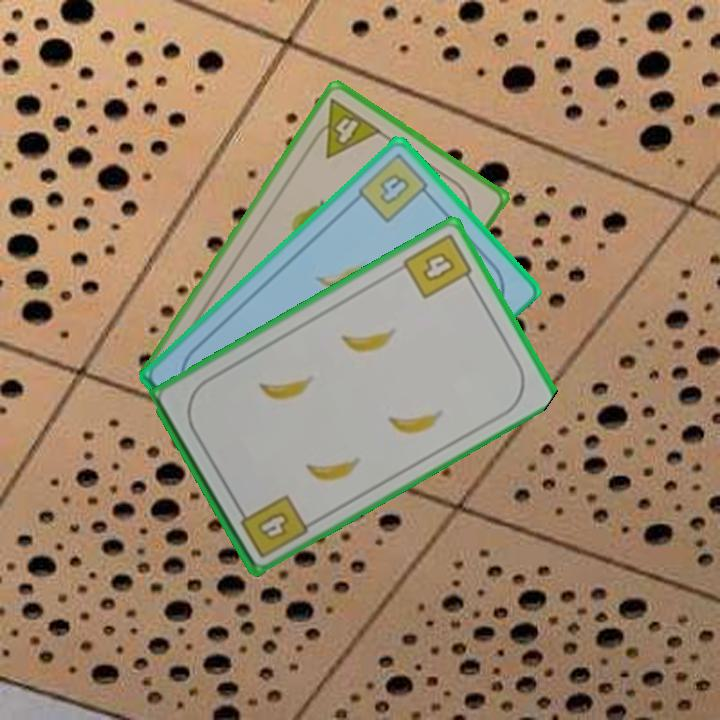4b: (354, 149, 436, 226), (399, 229, 478, 301), (233, 490, 311, 561)
4p: (305, 94, 385, 161)
